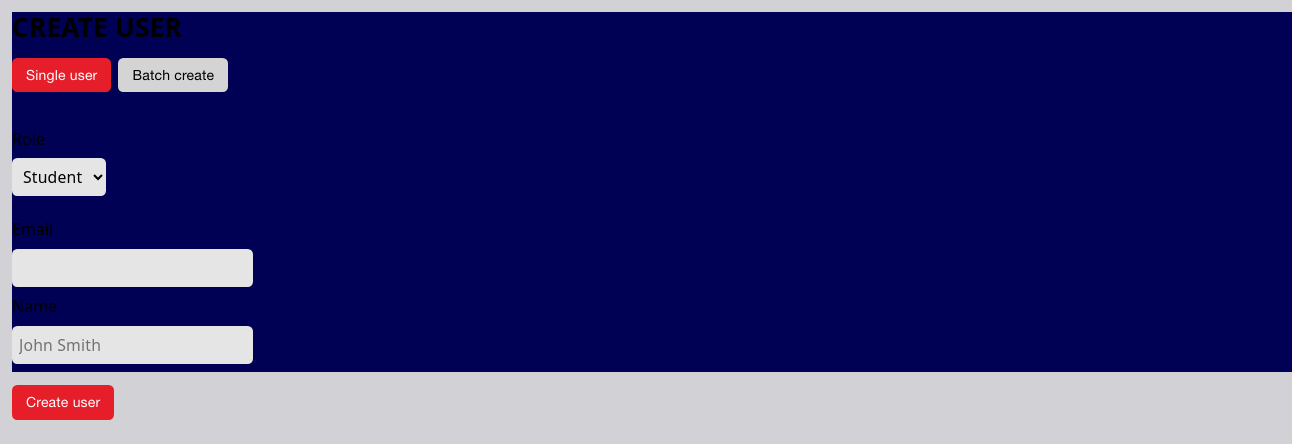
Test case: CreateUserPage › batch create › shows the CSV upload and hides the single user fields
Click the button "Batch create" at (173, 75), box [118, 58, 228, 92]
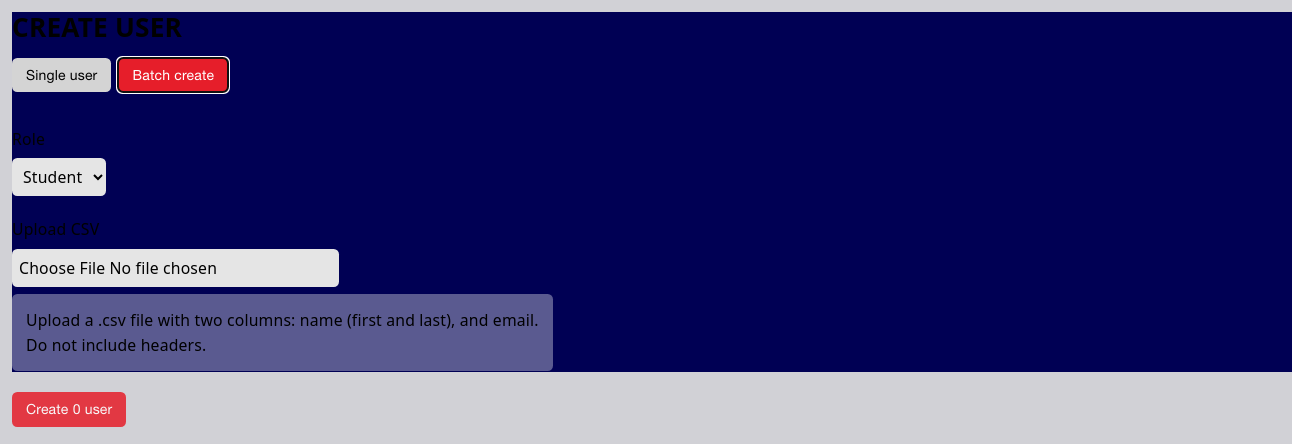
Expected: the field with placeholder "John Smith" is not shown
Result: the button "Create 0 user" is disabled at [12, 392, 126, 427]
